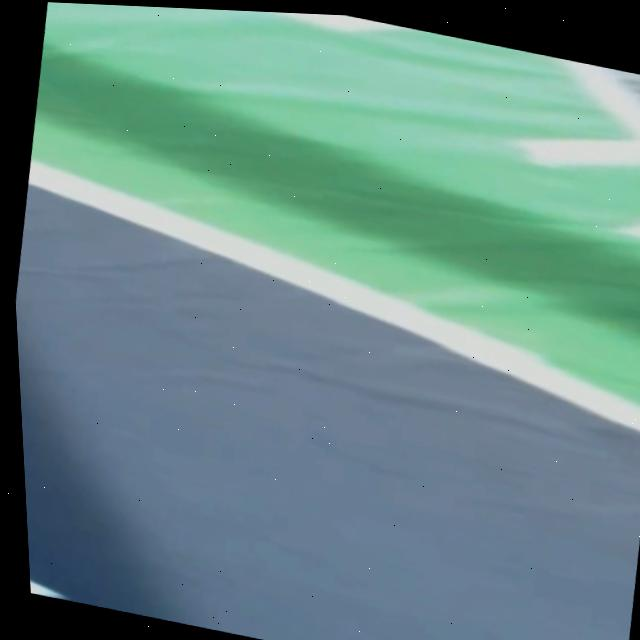center: (30, 582, 66, 599)
right: (27, 162, 640, 433)
